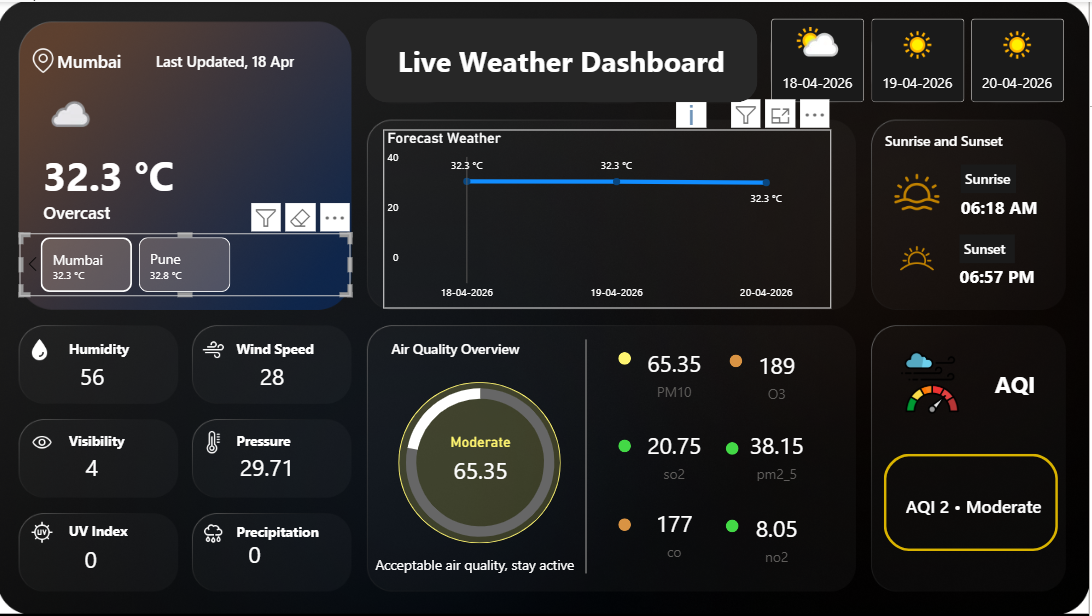

What the dashboard file says about the page in this screenshot:
{"tool":"powerbi","page":{"name":"Page 1","canvas":[1280,720],"ordinal":0},"visuals":[{"type":"shape","box":[470.1,445.4,190.5,189.1],"z":0},{"type":"advancedSlicerVisual","fields":{"Values":["Locations.location.name"]},"box":[26.1,270.3,388.3,74.1],"z":1000},{"type":"shape","box":[54.3,158,200.3,88.1],"z":2000},{"type":"shape","box":[54.3,232.8,200.3,26.5],"z":3000},{"type":"shape","box":[70,53.5,100.2,28.8],"z":4000},{"type":"image","box":[38.4,54.9,31.6,28.8],"z":5000},{"type":"shape","box":[186.6,54.9,197.6,30.2],"z":6000},{"type":"multiRowCard","fields":{"Values":["current.current.condition.icon"]},"box":[54.3,98.9,84.5,80.8],"z":7000},{"type":"image","box":[37,391,26.1,32.9],"z":8000},{"type":"textbox","box":[79.6,389.7,150.9,34.3],"z":9000},{"type":"image","box":[40,500,26.1,32.9],"z":10000},{"type":"textbox","box":[79.6,498.1,150.9,34.3],"z":11000},{"type":"image","box":[40,605,26.1,32.9],"z":12000},{"type":"textbox","box":[79.6,603.8,150.9,34.3],"z":13000},{"type":"image","box":[240,391,26.1,32.9],"z":14000},{"type":"textbox","box":[275.8,389.7,150.9,34.3],"z":15000},{"type":"image","box":[240,500,26.1,32.9],"z":16000},{"type":"textbox","box":[275.8,498.1,150.9,34.3],"z":17000},{"type":"image","box":[240,607,26.1,32.9],"z":18000},{"type":"textbox","box":[275.8,605.1,150.9,34.3],"z":19000},{"type":"card","fields":{"Values":["Sum(current.current.humidity)"]},"box":[49.4,410,123.5,59],"z":20000},{"type":"card","fields":{"Values":["Sum(current.current.wind_kph)"]},"box":[260.7,410.3,123.5,59],"z":21000},{"type":"card","fields":{"Values":["Sum(current.current.vis_km)"]},"box":[50.2,516.6,122.9,59.5],"z":22000},{"type":"card","fields":{"Values":["Sum(current.current.pressure_in)"]},"box":[255,516.6,122.9,59.5],"z":23000},{"type":"card","fields":{"Values":["Sum(current.current.uv)"]},"box":[48.9,623.6,122.9,59.5],"z":24000},{"type":"card","fields":{"Values":["Sum(current.current.precip_mm)"]},"box":[240.1,618.9,123.1,59.1],"z":25000},{"type":"advancedSlicerVisual","fields":{"Values":["forecast_day.Day_Name"]},"box":[901.8,15.1,353.6,108.3],"z":26000},{"type":"lineChart","title":"Forecast Weather","fields":{"Y":["Sum(forecast_day.forecast.forecastday.day.avgtemp_c)"],"Category":["forecast_day.Day_Name"]},"box":[452.4,150,524.2,209.5],"z":27000},{"type":"textbox","box":[1036.1,146.2,182.2,33.5],"z":28000},{"type":"shape","box":[1128.8,220,101,40.1],"z":29000},{"type":"shape","box":[1127.5,300,99.7,40.1],"z":30000},{"type":"textbox","box":[1128.8,190,64.7,33.7],"z":31000},{"type":"textbox","box":[1128,273.1,64.7,33.7],"z":32000},{"type":"image","box":[1044.7,196.8,67.3,53.1],"z":33000},{"type":"image","box":[1044.7,274.4,67.3,53.1],"z":34000},{"type":"cardVisual","fields":{"Data":["_Measures.AQI_Display"]},"box":[1022.4,512.5,238.5,148],"z":35000},{"type":"textbox","box":[1159.4,424.7,68.8,45.8],"z":36000},{"type":"image","box":[1044.8,406.6,97.7,77.2],"z":37000},{"type":"card","fields":{"Values":["Sum(current.current.air_quality.pm10)"]},"box":[748.3,400.2,90.4,69.9],"z":38000},{"type":"card","fields":{"Values":["Sum(current.current.air_quality.o3)"]},"box":[868.9,402.9,90.4,69.9],"z":39000},{"type":"card","fields":{"Values":["Sum(current.current.air_quality.pm2_5)"]},"box":[868.9,496.1,90.4,69.9],"z":40000},{"type":"card","fields":{"Values":["Sum(current.current.air_quality.no2)"]},"box":[868.9,593.4,90.4,69.9],"z":41000},{"type":"card","fields":{"Values":["Sum(current.current.air_quality.so2)"]},"box":[748.3,496.1,90.4,69.9],"z":42000},{"type":"card","fields":{"Values":["Sum(current.current.air_quality.co)"]},"box":[748.3,587.9,90.4,69.9],"z":43000},{"type":"shape","box":[727.7,409.8,15,15],"z":44000},{"type":"shape","box":[727.7,604.4,15,15],"z":45000},{"type":"shape","box":[727.7,512.5,15,15],"z":46000},{"type":"shape","box":[857.9,412.5,15,15],"z":47000},{"type":"shape","box":[853.8,515.3,15.1,15.1],"z":48000},{"type":"shape","box":[853.8,607.1,15.1,15.1],"z":49000},{"type":"shape","box":[683.9,396.1,12.3,274.1],"z":50000},{"type":"donutChart","fields":{"Y":["_Measures.Left_value_PM10","Sum(current.current.air_quality.pm10)"]},"box":[452.2,424.8,227.5,230.2],"z":51000},{"type":"card","fields":{"Values":["Sum(current.current.air_quality.pm10)"]},"box":[520.8,505.7,90.4,69.9],"z":52000},{"type":"textbox","box":[457.7,389.2,182.3,32.9],"z":53000},{"type":"shape","box":[434.4,644.1,249.4,27.4],"z":54000},{"type":"shape","box":[431.7,19.2,459.1,98.7],"z":55000}]}

Visuals, with their boxes in screenshot pixels (x1, y1, x2, y2), scaled from the page's 1280x720 canvas onto the 1092x616 screenshot:
shape: l=401, t=381, r=564, b=543
advancedSlicerVisual - Locations.location.name: l=22, t=231, r=354, b=295
shape: l=46, t=135, r=217, b=211
shape: l=46, t=199, r=217, b=222
shape: l=60, t=46, r=145, b=70
image: l=33, t=47, r=60, b=72
shape: l=159, t=47, r=328, b=73
multiRowCard - current.current.condition.icon: l=46, t=85, r=118, b=154
image: l=32, t=335, r=54, b=363
textbox: l=68, t=333, r=197, b=363
image: l=34, t=428, r=56, b=456
textbox: l=68, t=426, r=197, b=455
image: l=34, t=518, r=56, b=546
textbox: l=68, t=517, r=197, b=546
image: l=205, t=335, r=227, b=363
textbox: l=235, t=333, r=364, b=363
image: l=205, t=428, r=227, b=456
textbox: l=235, t=426, r=364, b=455
image: l=205, t=519, r=227, b=547
textbox: l=235, t=518, r=364, b=547
card - Sum(current.current.humidity): l=42, t=351, r=148, b=401
card - Sum(current.current.wind_kph): l=222, t=351, r=328, b=402
card - Sum(current.current.vis_km): l=43, t=442, r=148, b=493
card - Sum(current.current.pressure_in): l=218, t=442, r=322, b=493
card - Sum(current.current.uv): l=42, t=534, r=147, b=584
card - Sum(current.current.precip_mm): l=205, t=530, r=310, b=580
advancedSlicerVisual - forecast_day.Day_Name: l=769, t=13, r=1071, b=106
"Forecast Weather" lineChart: l=386, t=128, r=833, b=308
textbox: l=884, t=125, r=1039, b=154
shape: l=963, t=188, r=1049, b=223
shape: l=962, t=257, r=1047, b=291
textbox: l=963, t=163, r=1018, b=191
textbox: l=962, t=234, r=1018, b=262
image: l=891, t=168, r=949, b=214
image: l=891, t=235, r=949, b=280
cardVisual - _Measures.AQI_Display: l=872, t=438, r=1076, b=565
textbox: l=989, t=363, r=1048, b=403
image: l=891, t=348, r=975, b=414
card - Sum(current.current.air_quality.pm10): l=638, t=342, r=716, b=402
card - Sum(current.current.air_quality.o3): l=741, t=345, r=818, b=405
card - Sum(current.current.air_quality.pm2_5): l=741, t=424, r=818, b=484
card - Sum(current.current.air_quality.no2): l=741, t=508, r=818, b=567
card - Sum(current.current.air_quality.so2): l=638, t=424, r=716, b=484
card - Sum(current.current.air_quality.co): l=638, t=503, r=716, b=563
shape: l=621, t=351, r=634, b=363
shape: l=621, t=517, r=634, b=530
shape: l=621, t=438, r=634, b=451
shape: l=732, t=353, r=745, b=366
shape: l=728, t=441, r=741, b=454
shape: l=728, t=519, r=741, b=532
shape: l=583, t=339, r=594, b=573
donutChart - _Measures.Left_value_PM10 x Sum(current.current.air_quality.pm10): l=386, t=363, r=580, b=560
card - Sum(current.current.air_quality.pm10): l=444, t=433, r=521, b=492
textbox: l=390, t=333, r=546, b=361
shape: l=371, t=551, r=583, b=575
shape: l=368, t=16, r=760, b=101
